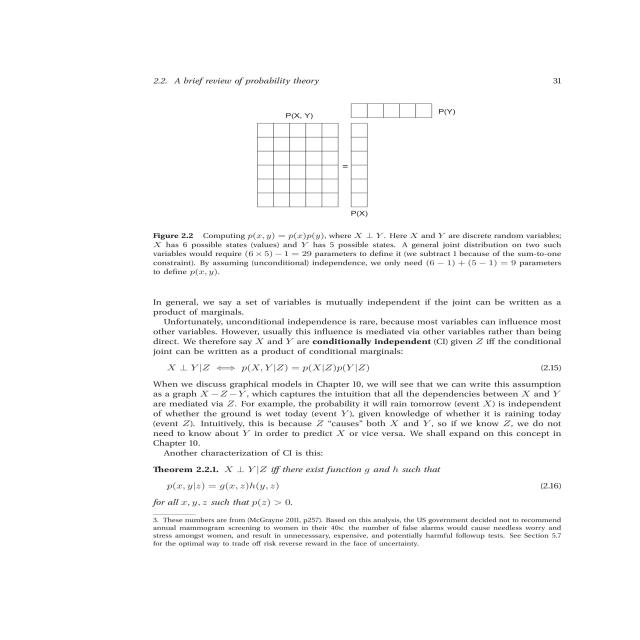diagram: (150, 71, 480, 224)
